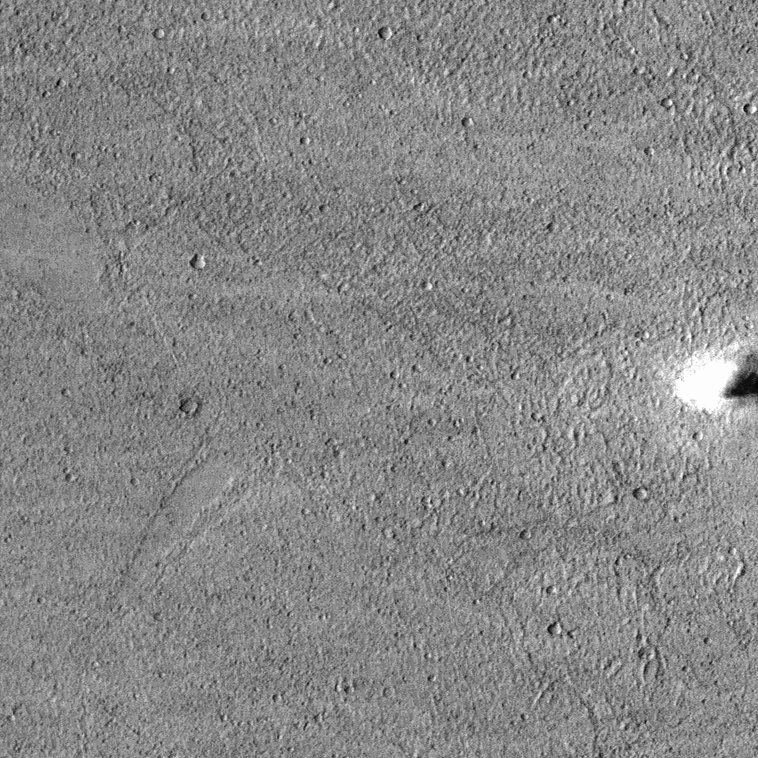dust_devil: (668, 339, 758, 419)
